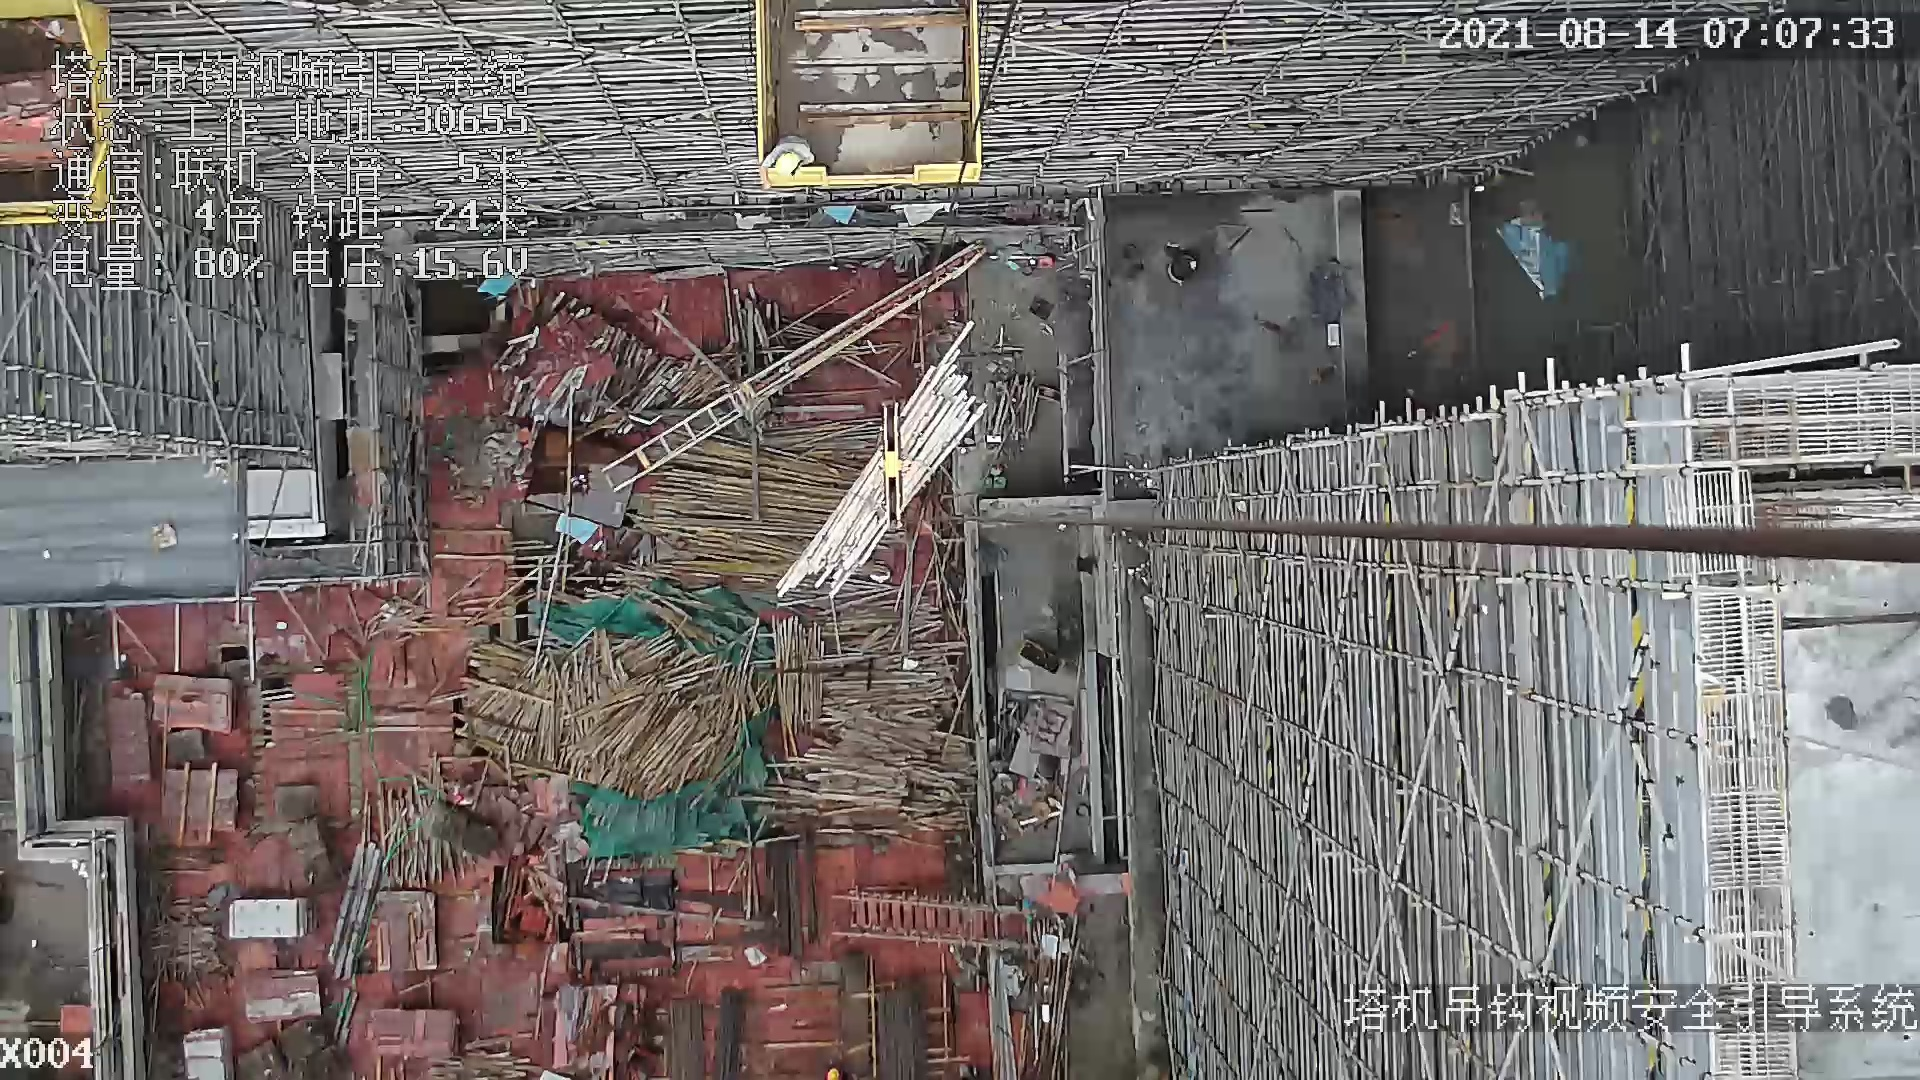helmet: (776, 152, 805, 175)
hook: (877, 396, 919, 536)
person: (754, 139, 813, 190)
